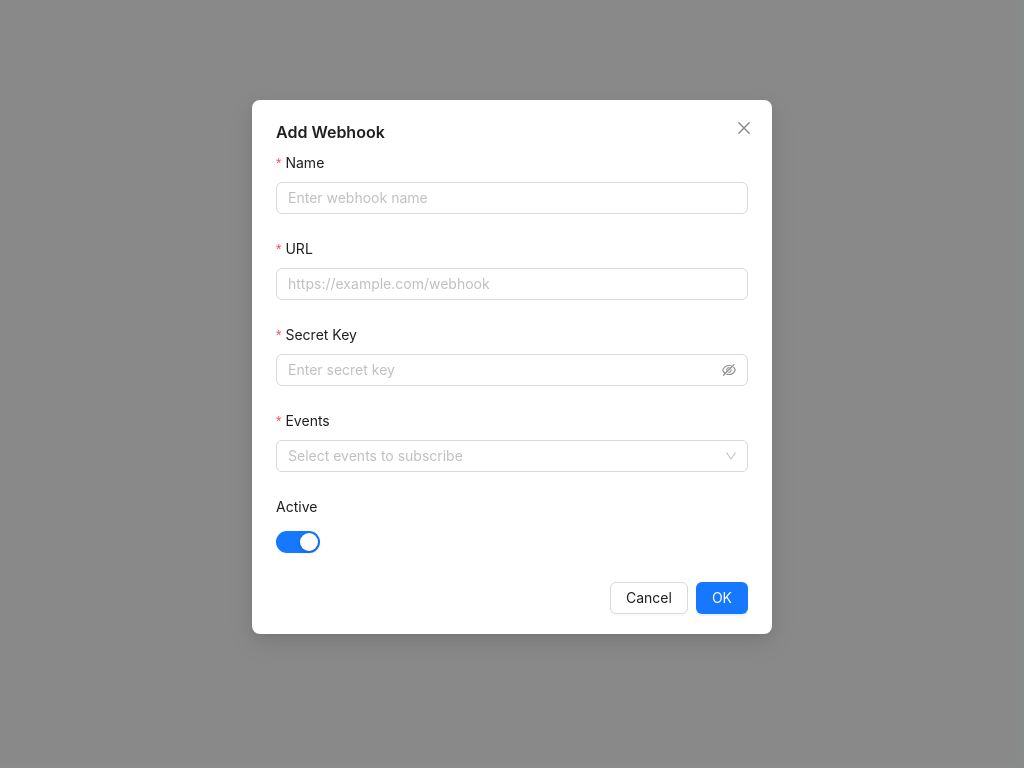
it: WebhookForm › validates required fields
This screenshot has width=1024, height=768.
Try to submit empty form
Click the button "OK": (722, 598) left=696, top=582, right=748, bottom=614
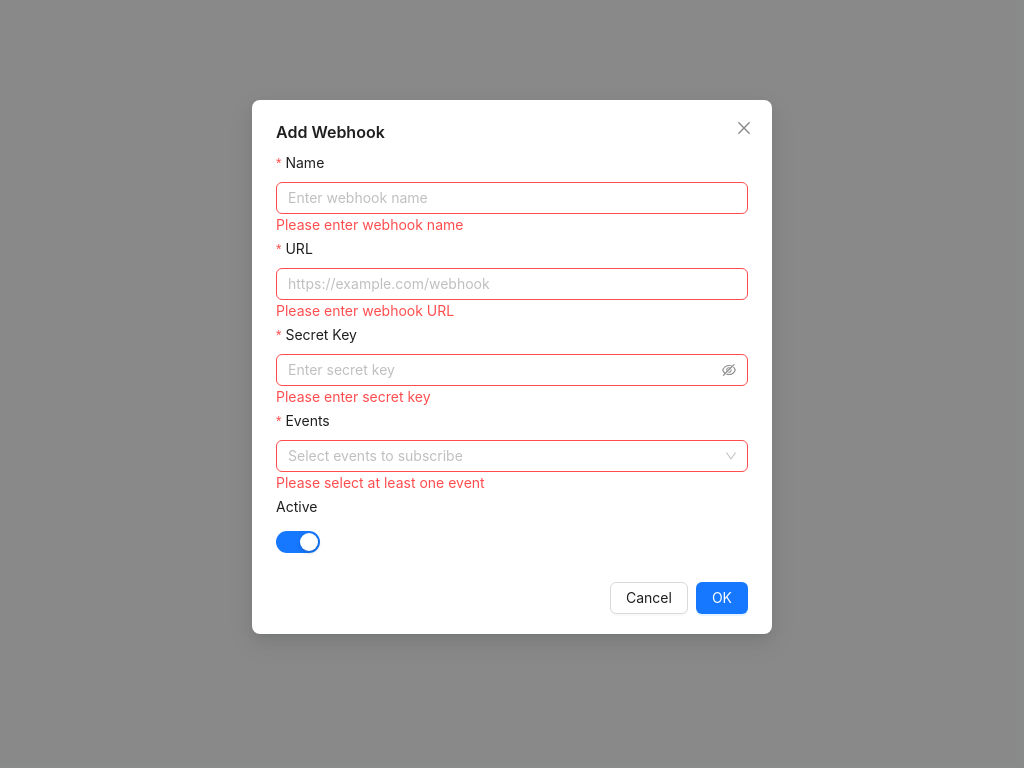
Check: the text "Please enter webhook name" is shown, box left=276, top=216, right=463, bottom=233
Check: the text "Please enter webhook URL" is shown, box left=276, top=302, right=454, bottom=319
Check: the text "Please enter secret key" is shown, box left=276, top=388, right=431, bottom=405
